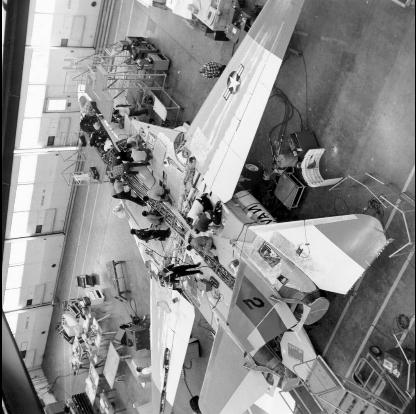EF2000: (76, 0, 396, 413)
